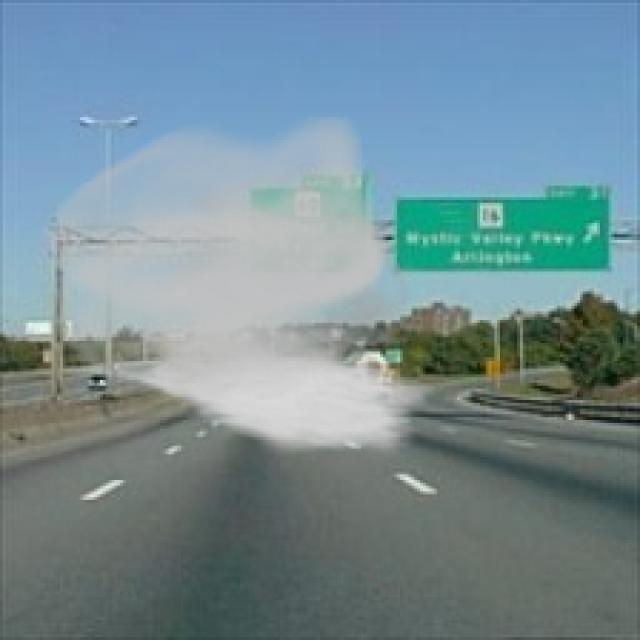smoke: (34, 114, 434, 457)
